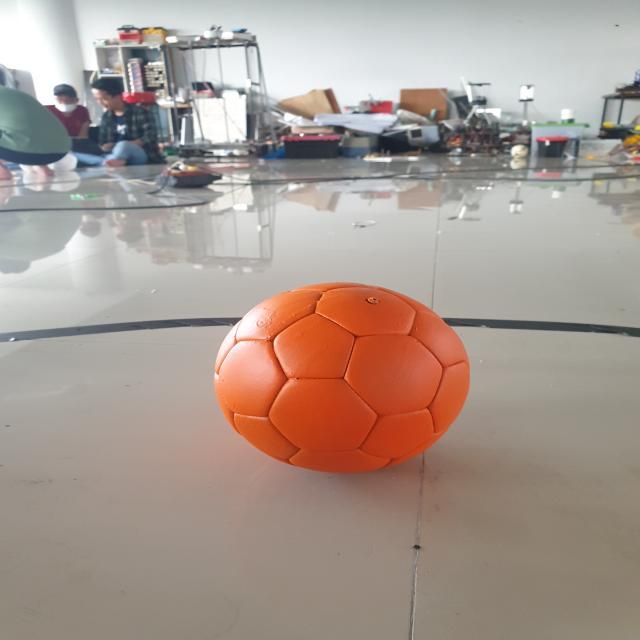bola: (204, 276, 486, 477)
